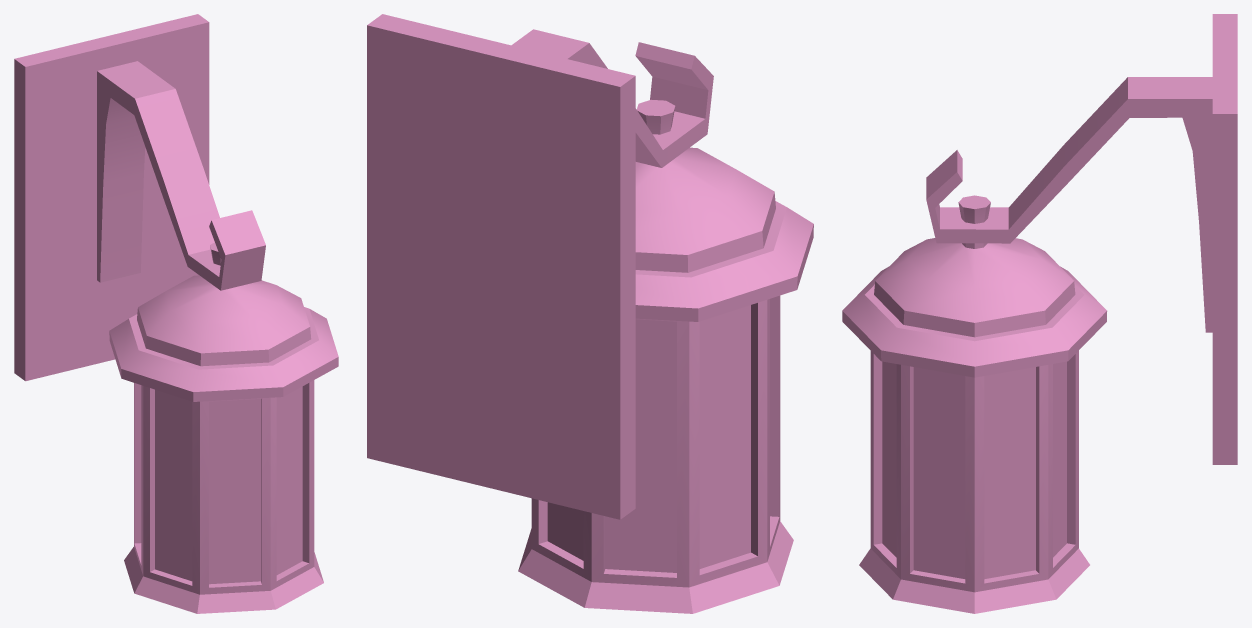
Rendered from Candelabro1Low.fbx.
The picture shows the model from 3 angles, left to right: view 1: azimuth 30°, elevation 25°; view 2: azimuth 150°, elevation 25°; view 3: azimuth 270°, elevation 25°; orthographic projection. The views are drawn at different scales.
Parts seen in each view (by area): view 1: Cube.034; view 2: Cube.034; view 3: Cube.034.
Part boxes in pixels (x1,y1,x2,y2): Cube.034: (14, 14, 338, 613); Cube.034: (367, 14, 813, 613); Cube.034: (842, 14, 1237, 613).
Bounding box in the file's own units: 29.34 × 61.21 × 43.79.
